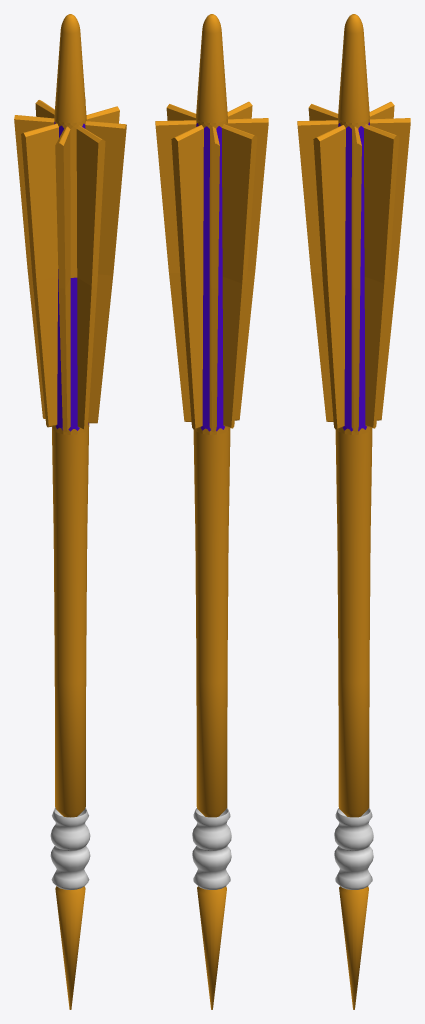
File: yakaArrow _.fbx
The picture shows the model from 3 angles, left to right: view 1: azimuth 90°, elevation 25°; view 2: azimuth 150°, elevation 25°; view 3: azimuth 330°, elevation 25°; orthographic projection.
Parts seen in each view (by area): view 1: Cylinder; view 2: Cylinder; view 3: Cylinder.
Part boxes in pixels (bbox=[...]): Cylinder: bbox=[14, 14, 126, 1009]; Cylinder: bbox=[155, 14, 268, 1009]; Cylinder: bbox=[297, 14, 410, 1009].
Size of the model in its own units: 30.81 by 300 by 30.81.
